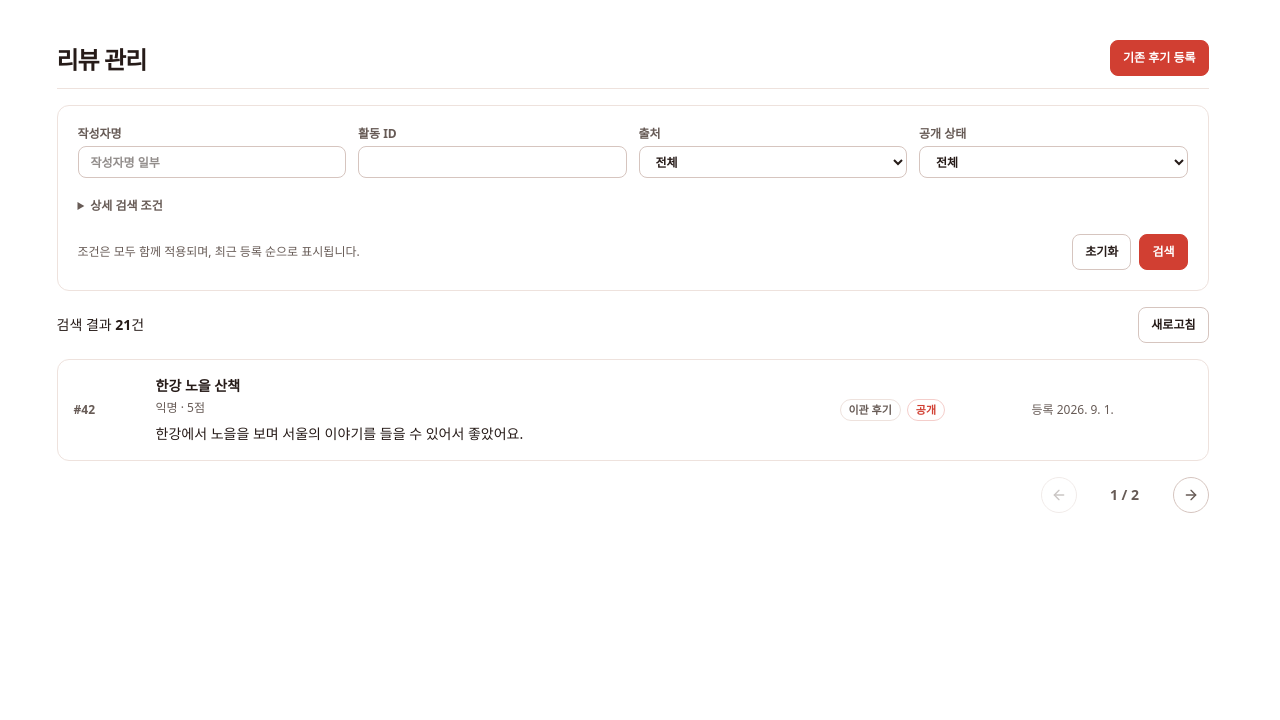
admin reviews screens › offers only contracted filters and resets pagination on search
Click the button named "다음 페이지" at (1190, 495), box [1172,477,1208,513]
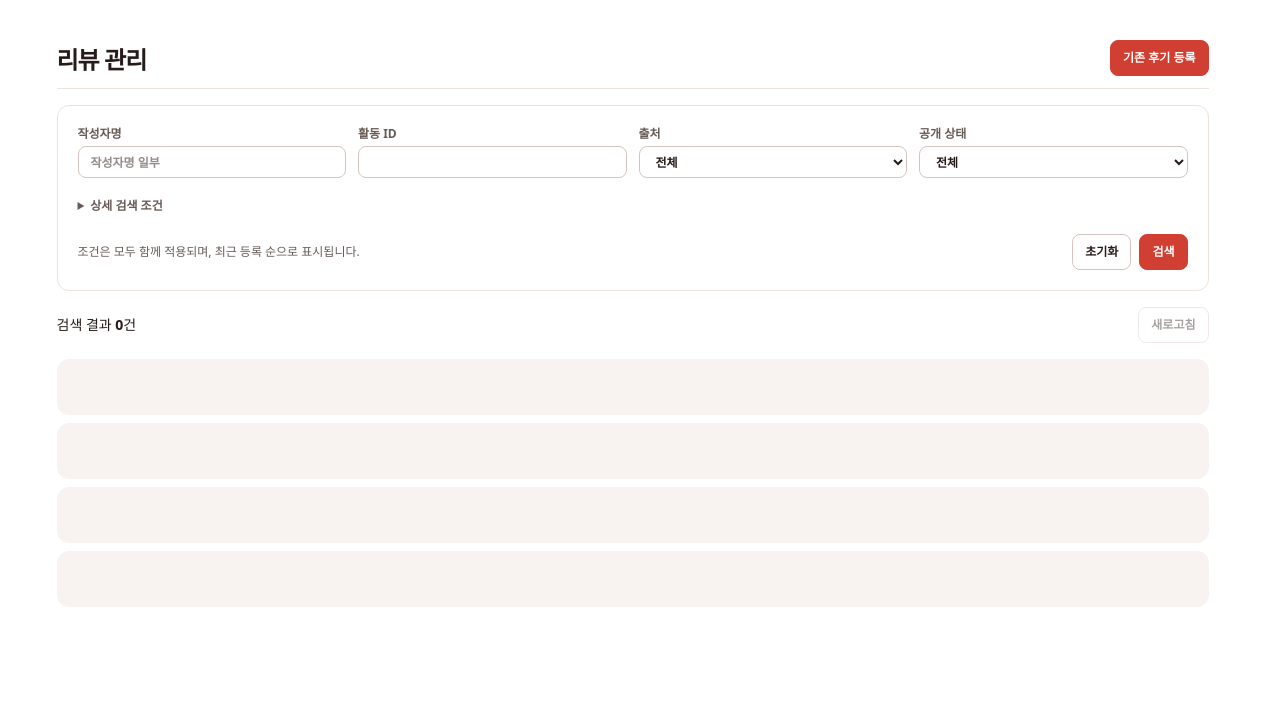
Type "Mina" into the field labelled "작성자명" at (212, 162), box [78,146,346,178]
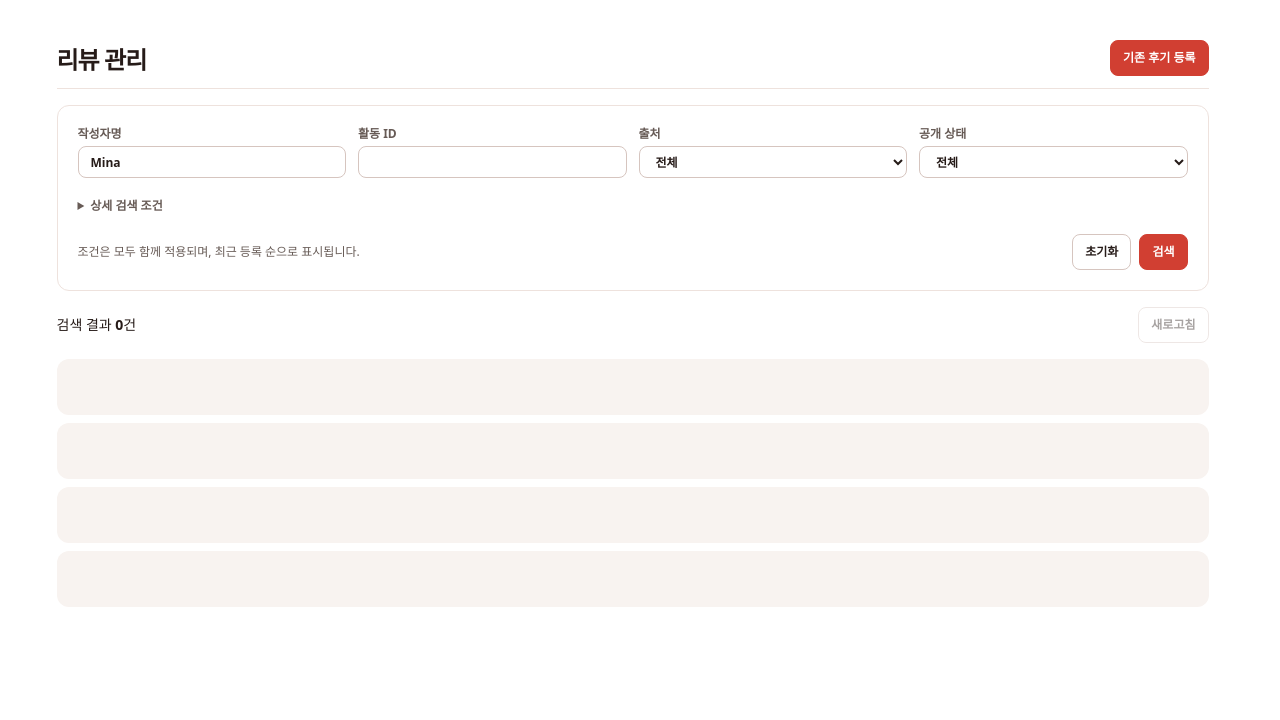
Select "이관 후기" in the dropdown labelled "출처" at (773, 162), box [638,146,907,178]
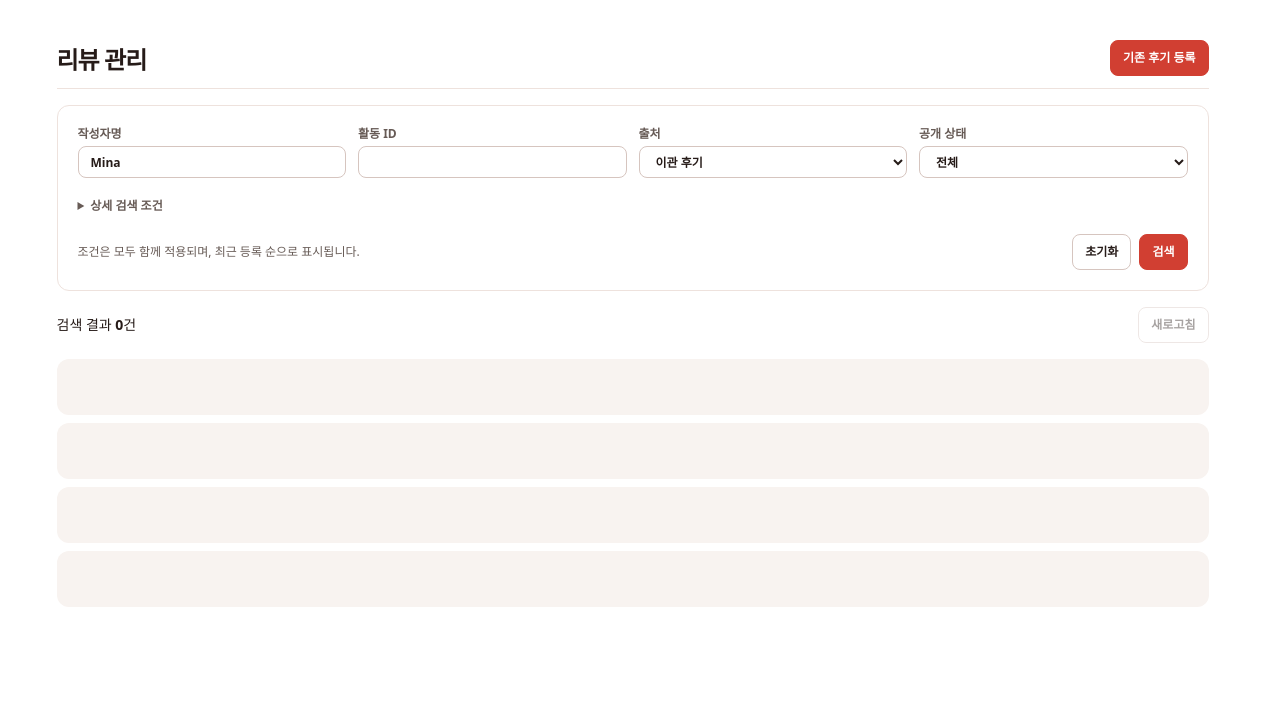
Click the button "검색" at (1163, 252), box [1139,234,1188,270]
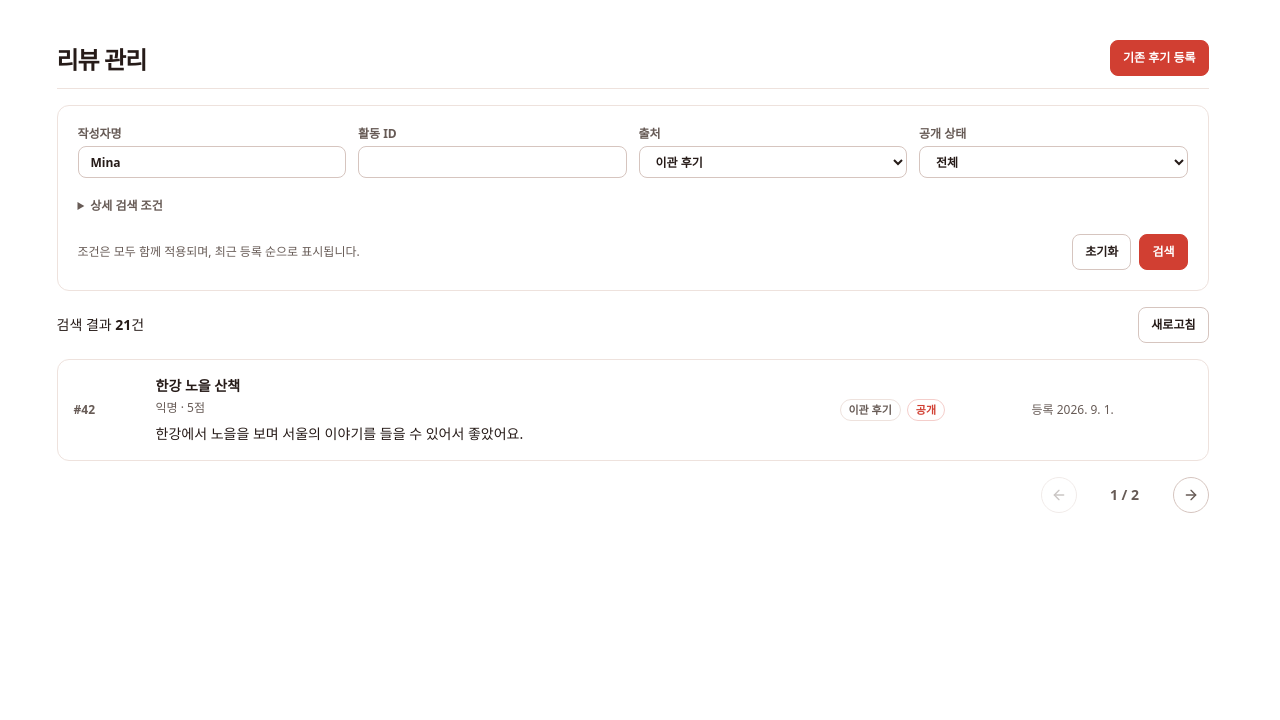
Now the text "익명 · 5점" is shown, box [156,399,205,416]
